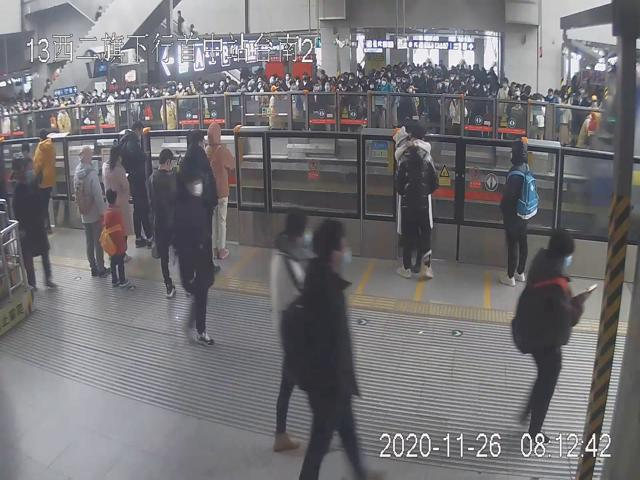person: (397, 120, 440, 281), (148, 148, 192, 298), (497, 140, 538, 283), (74, 145, 110, 277), (204, 120, 235, 261), (120, 123, 154, 245), (103, 188, 128, 286)
